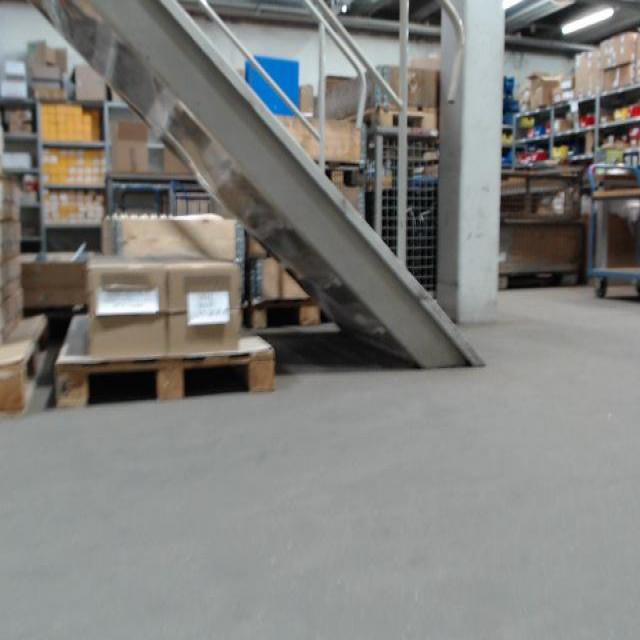pallet: (51, 314, 278, 409), (0, 315, 49, 418), (347, 100, 439, 136), (250, 302, 330, 329)
stillage: (369, 129, 450, 294), (493, 168, 595, 292)
